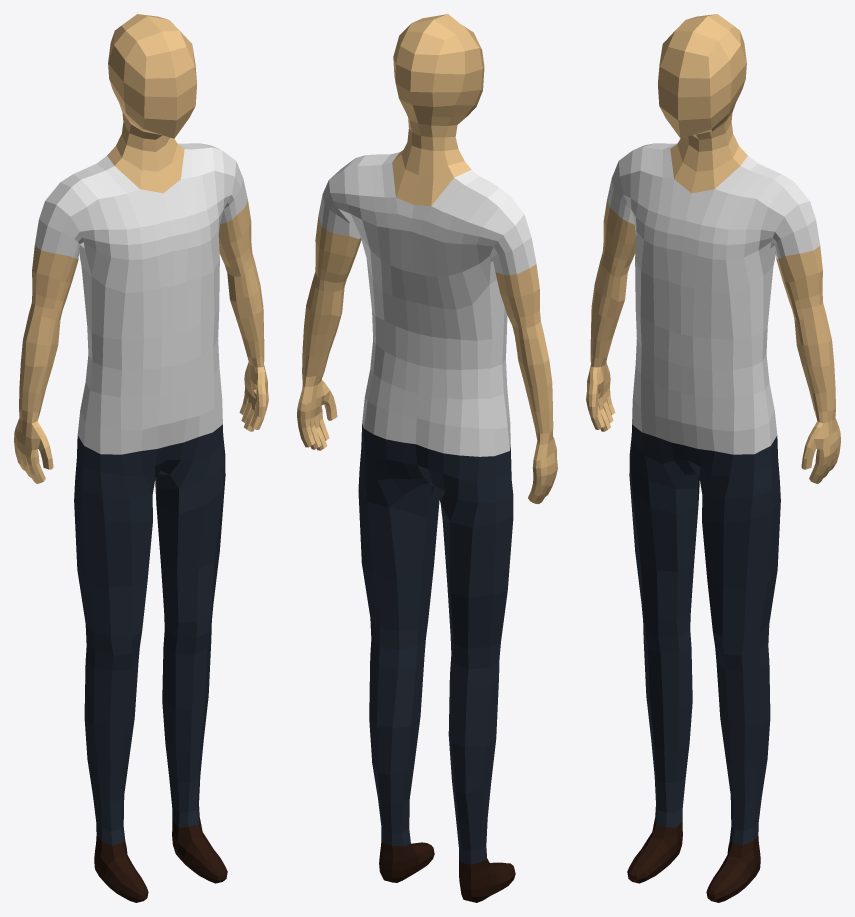
The model's file is Man.obj.
The picture shows the model from 3 angles, left to right: view 1: azimuth 30°, elevation 25°; view 2: azimuth 150°, elevation 25°; view 3: azimuth 330°, elevation 25°; orthographic projection. The views are drawn at different scales.
Visible parts, largest first — view 1: Man; view 2: Man; view 3: Man.
Boxes of the visible parts, bbox=[...] form: Man: bbox=[14, 14, 268, 902]; Man: bbox=[297, 14, 557, 902]; Man: bbox=[586, 14, 840, 902].
Bounding box in the file's own units: 3.07 × 10.31 × 1.28.
Materials: 1 (1 with a texture image).
